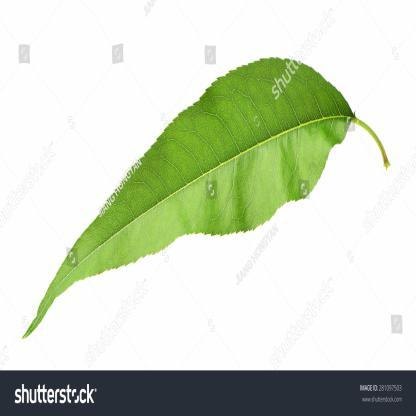Peach leaf: (15, 40, 395, 354)
